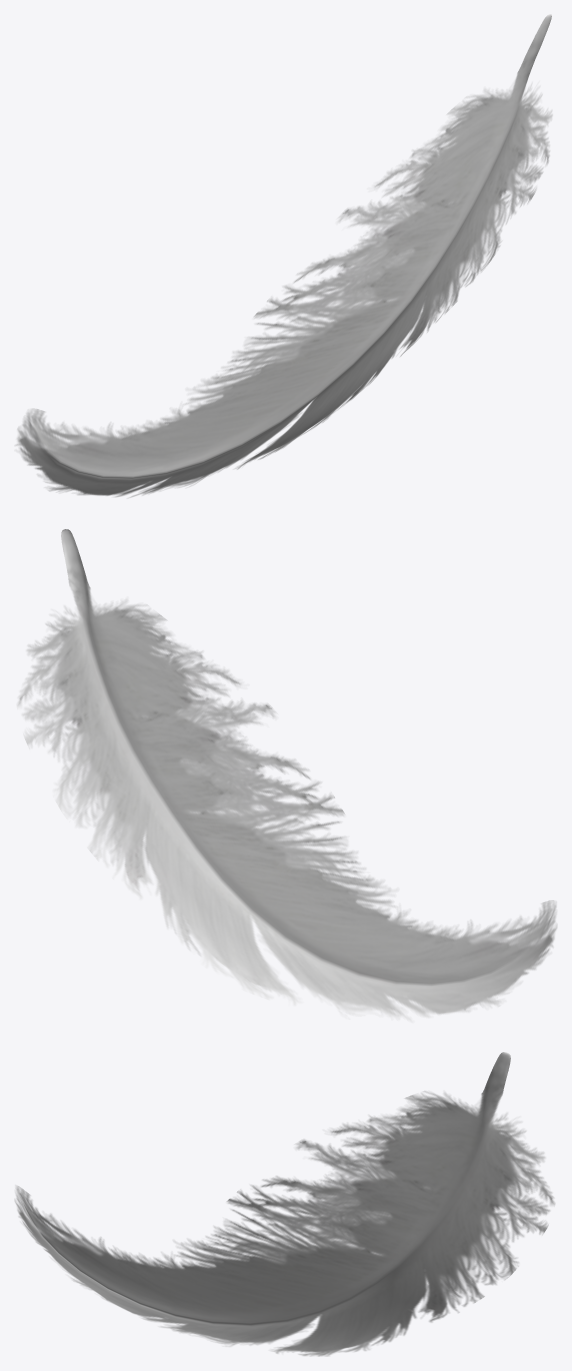
The model's file is Single_feather_2 (1).glb.
3 renders of one model, top to bottom at view 1: azimuth 30°, elevation 25°; view 2: azimuth 150°, elevation 25°; view 3: azimuth 330°, elevation 25°, orthographic. The views are drawn at different scales.
Visible parts, largest first — view 1: Wing_Feather1Wing_Feather_left1; view 2: Wing_Feather1Wing_Feather_left1; view 3: Wing_Feather1Wing_Feather_left1.
Part boxes in pixels (bbox=[...]): Wing_Feather1Wing_Feather_left1: bbox=[15, 14, 552, 497]; Wing_Feather1Wing_Feather_left1: bbox=[16, 529, 557, 1021]; Wing_Feather1Wing_Feather_left1: bbox=[14, 1052, 555, 1356].
Bounding box in the file's own units: 0.0237 × 0.0169 × 0.00332.
Materials: 1 (1 with a texture image).
